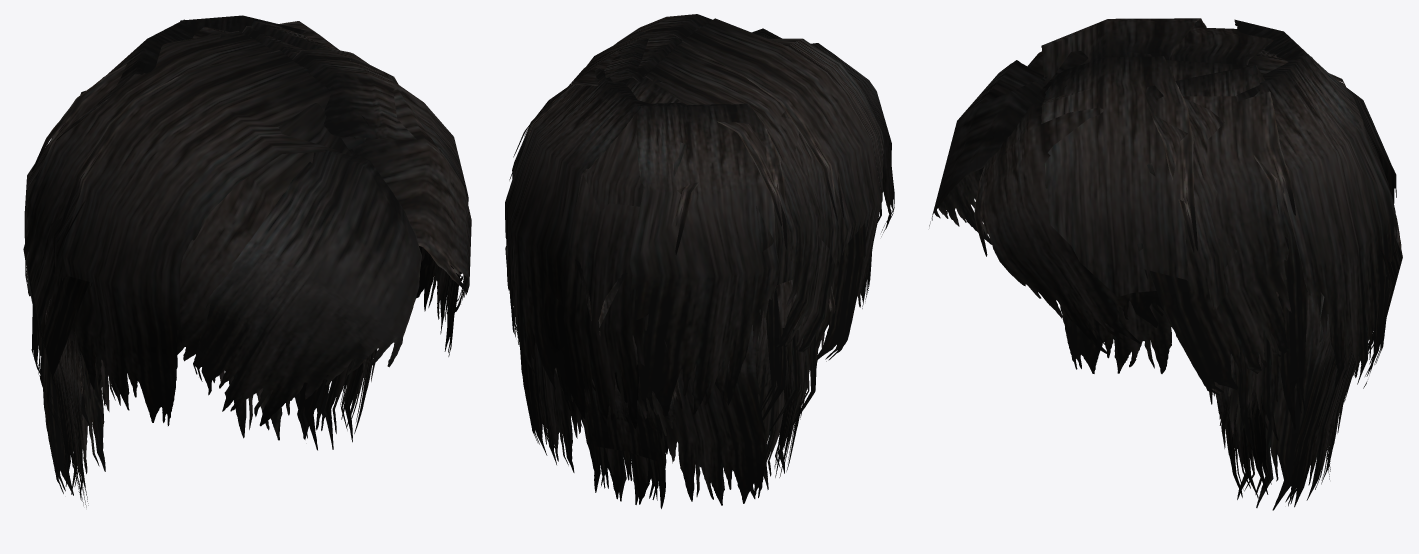
The model's file is hair_017.fbx.
3 views of the same model, side by side, from view 1: azimuth 30°, elevation 25°; view 2: azimuth 150°, elevation 25°; view 3: azimuth 270°, elevation 25° (orthographic). The views are drawn at different scales.
Visible parts, largest first — view 1: hair_017; view 2: hair_017; view 3: hair_017.
Boxes of the visible parts, left/top/right/bottom form: hair_017: left=23, top=15, right=471, bottom=507; hair_017: left=505, top=14, right=894, bottom=508; hair_017: left=929, top=18, right=1402, bottom=510.
Size of the model in its own units: 19.94 by 24.81 by 23.87.
